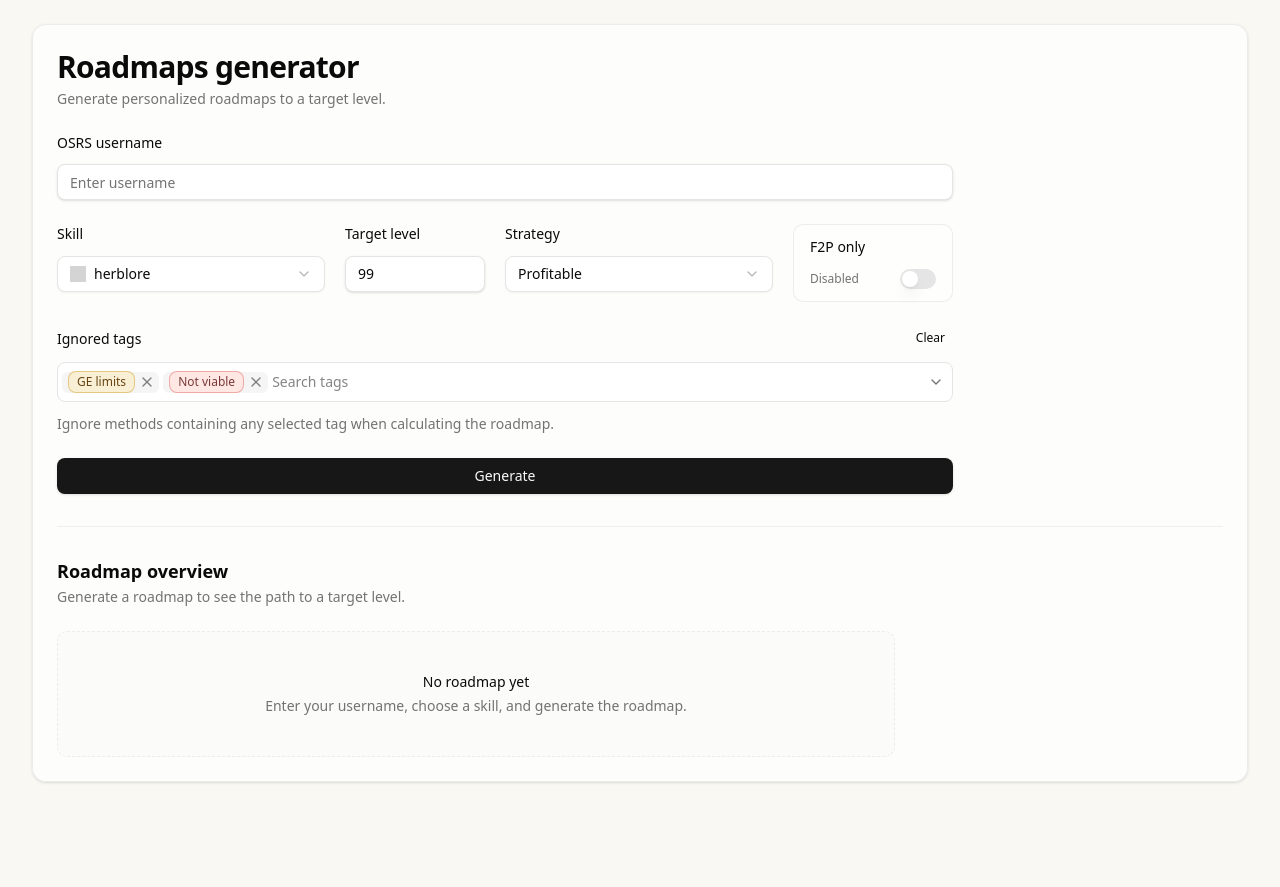
RoadmapsPage › shows the completion message for an already reached target
The width and height of the screenshot is (1280, 887).
Type "carmixtank" into the field labelled "OSRS username" at [505, 182], box [57, 164, 953, 200]
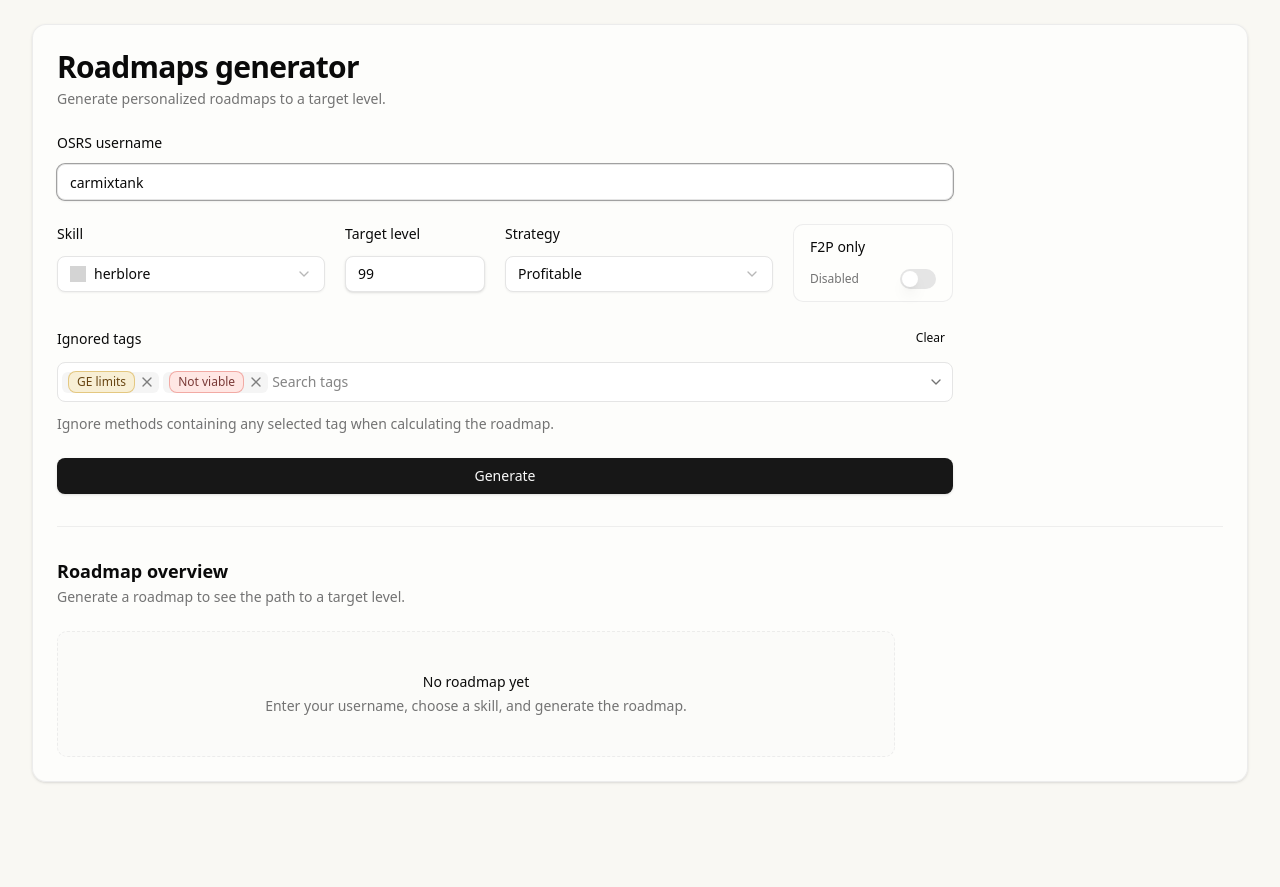
Click the button "Generate" at [505, 476], box [57, 458, 953, 494]
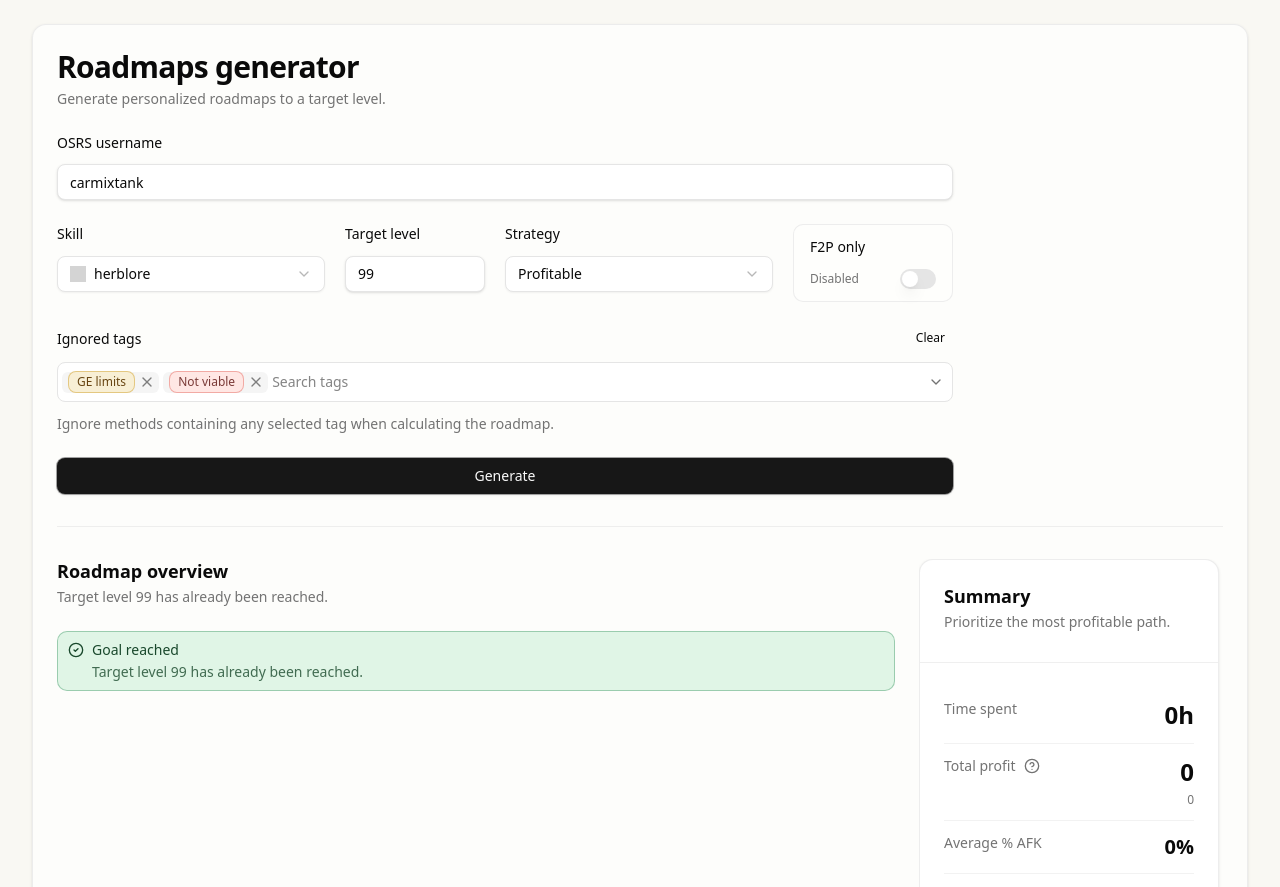
Result: the text "Goal reached" is shown at [92, 640, 179, 659]
Result: the text "Target level 99 has already been reached." below "Goal reached" is shown at [92, 662, 363, 681]
